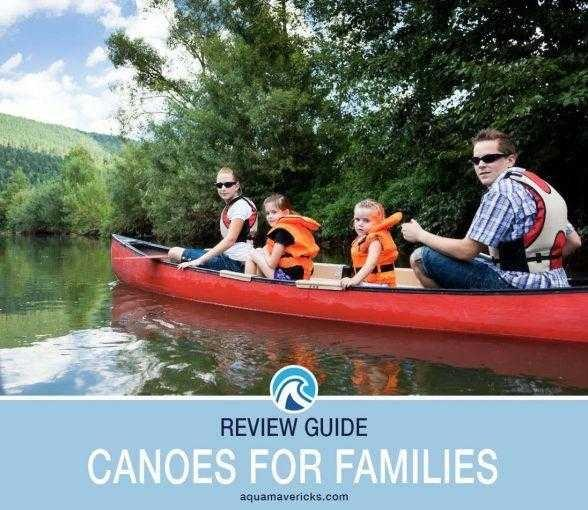kayak: (113, 235, 582, 349)
